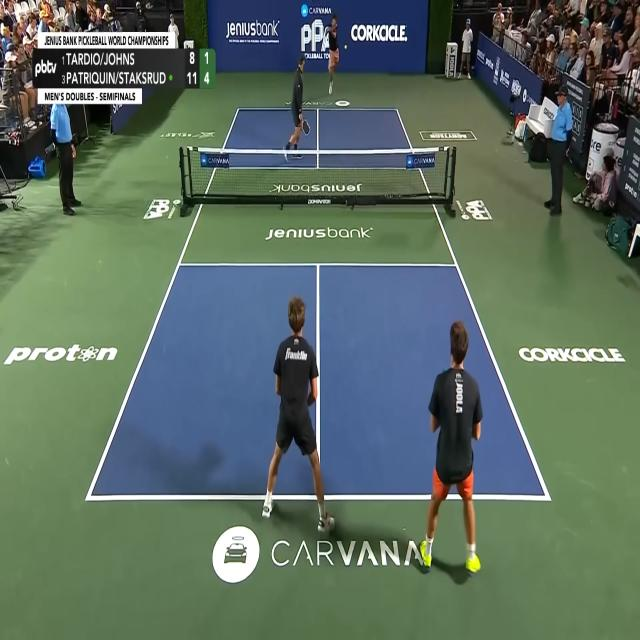ball: (344, 44, 347, 50)
